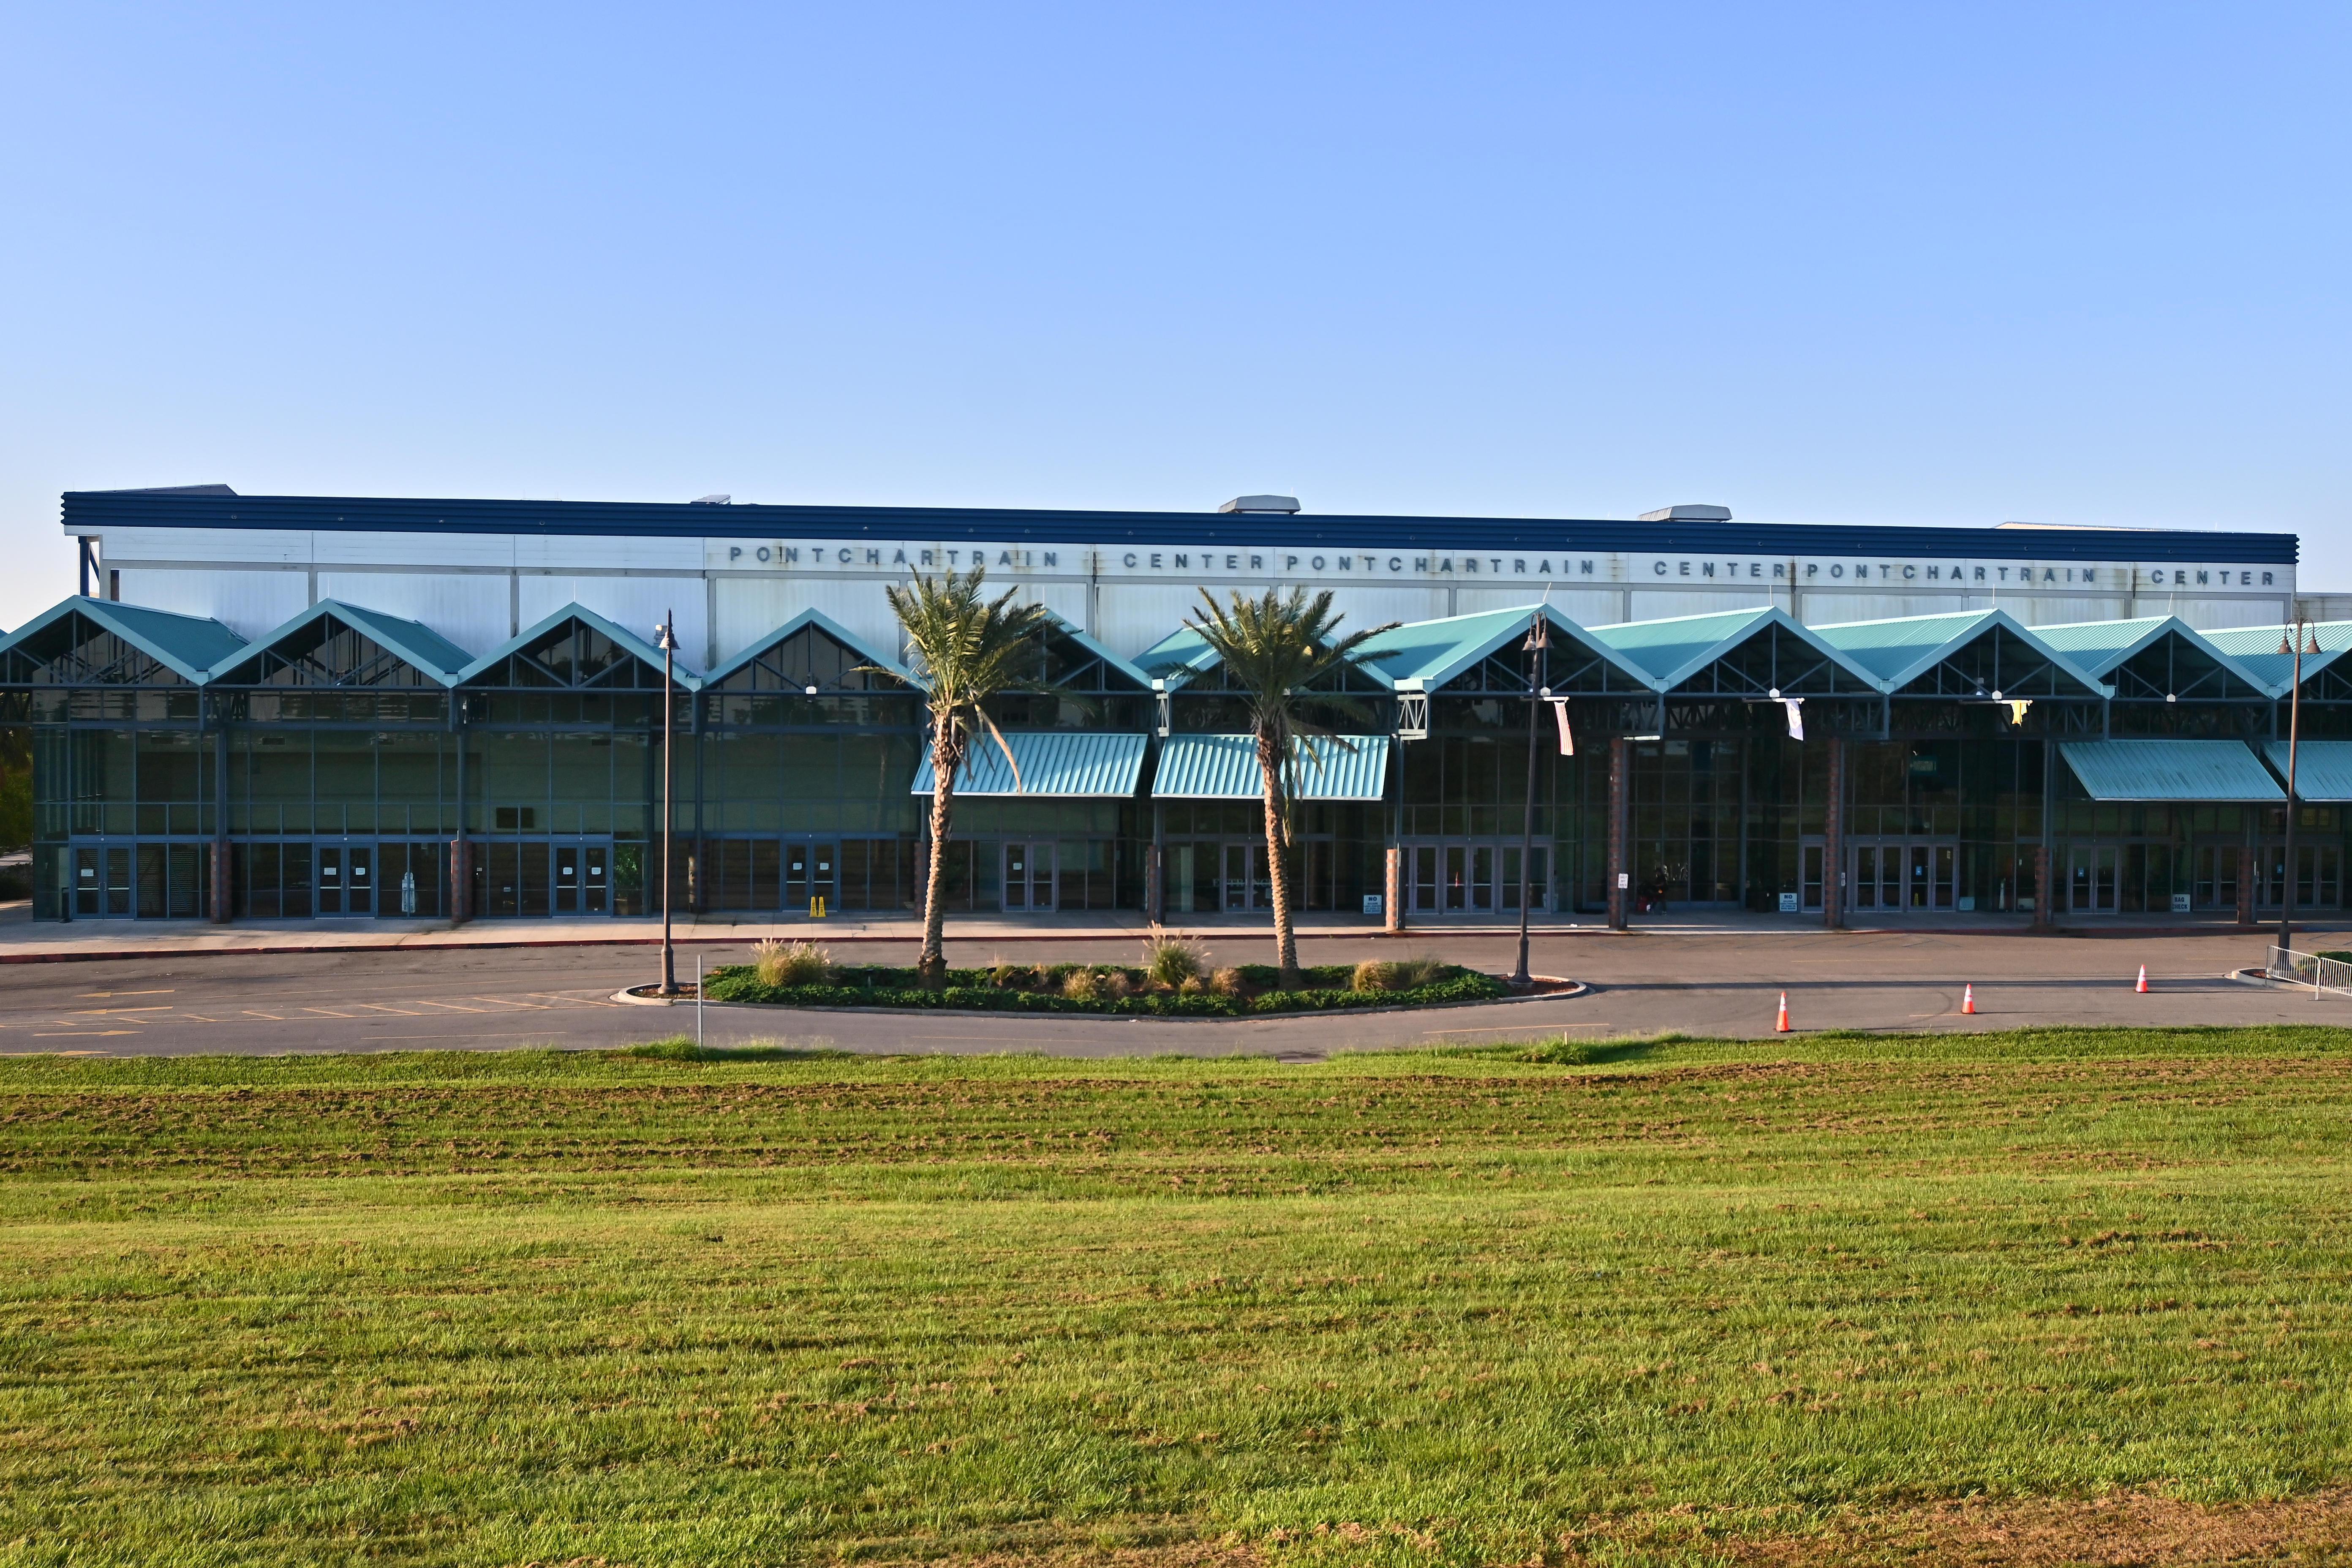affected: (40, 483, 2319, 927)
